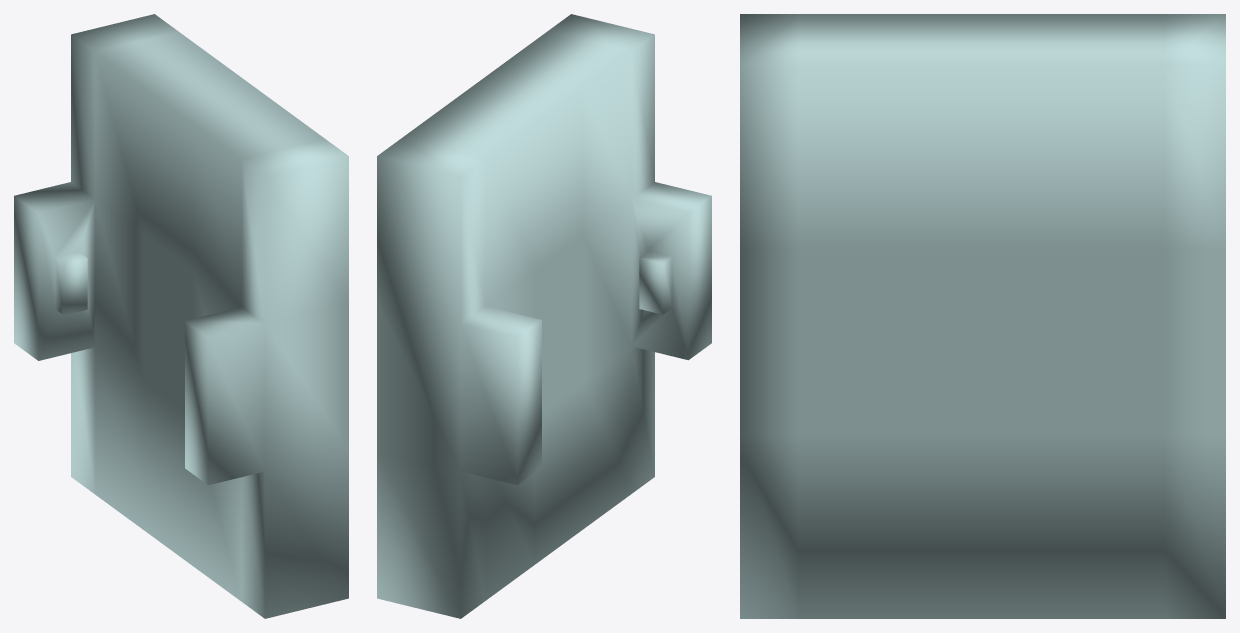
Rendered from LeverBase.fbx.
The picture shows the model from 3 angles, left to right: view 1: azimuth 30°, elevation 25°; view 2: azimuth 150°, elevation 25°; view 3: azimuth 270°, elevation 25°; orthographic projection. The views are drawn at different scales.
Visible parts, largest first — view 1: LeverBase:Box001; view 2: LeverBase:Box001; view 3: LeverBase:Box001.
Part boxes in pixels (x1,y1,x2,y2): LeverBase:Box001: [14, 14, 348, 618]; LeverBase:Box001: [377, 14, 711, 618]; LeverBase:Box001: [740, 14, 1225, 618].
Size of the model in its own units: 3.32 by 10 by 7.95.
